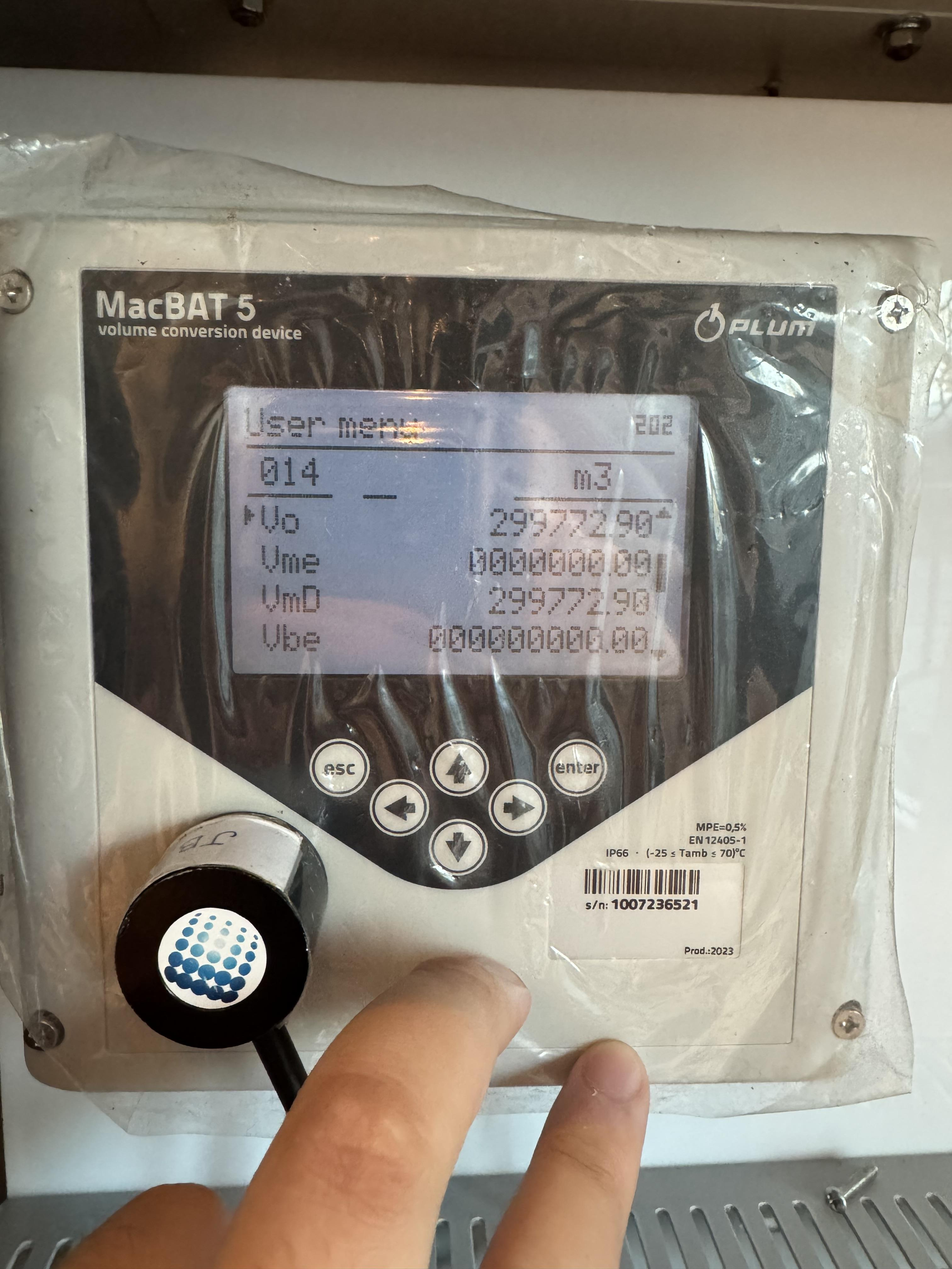digital_screen: (224, 388, 697, 678)
